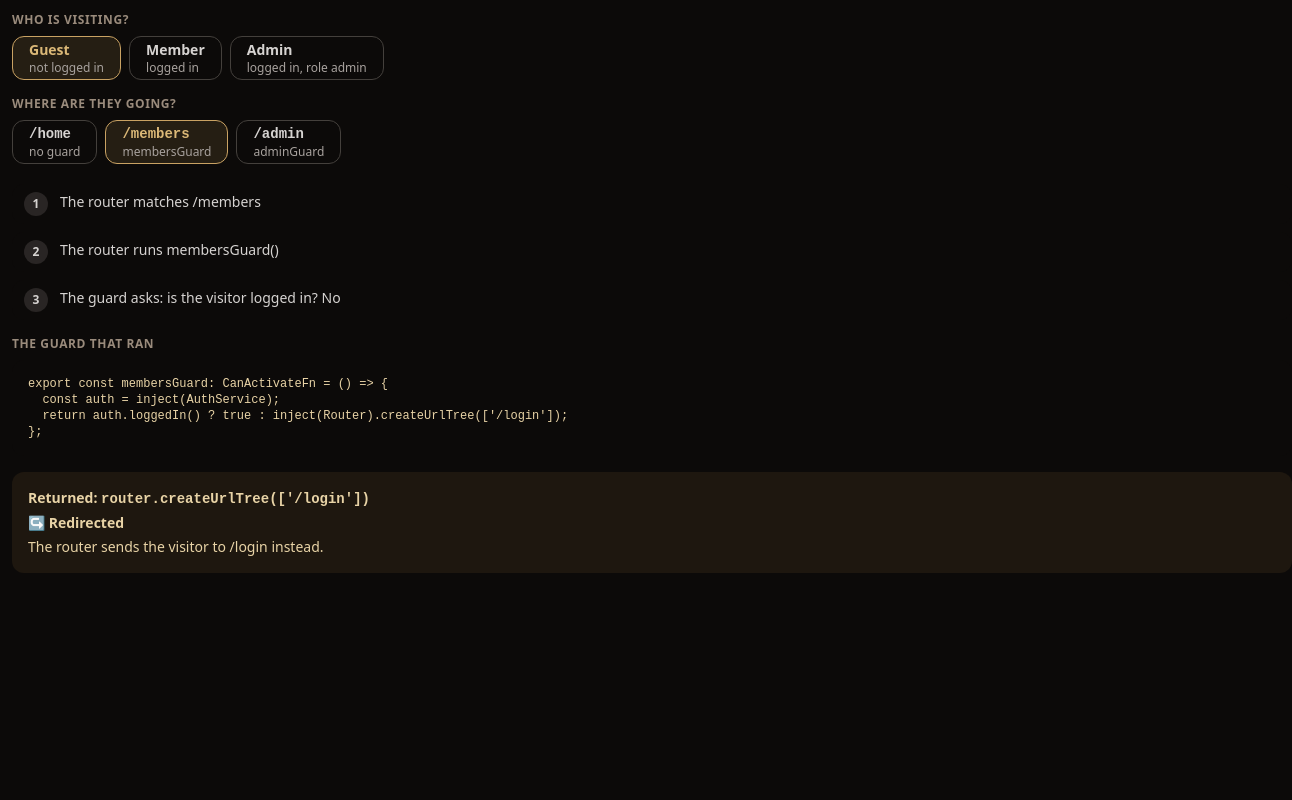
Scenario: GuardGateDemoComponent › shows a member being cancelled on the admin page
Click the button "Member logged in": [175, 58] box [129,36,222,80]
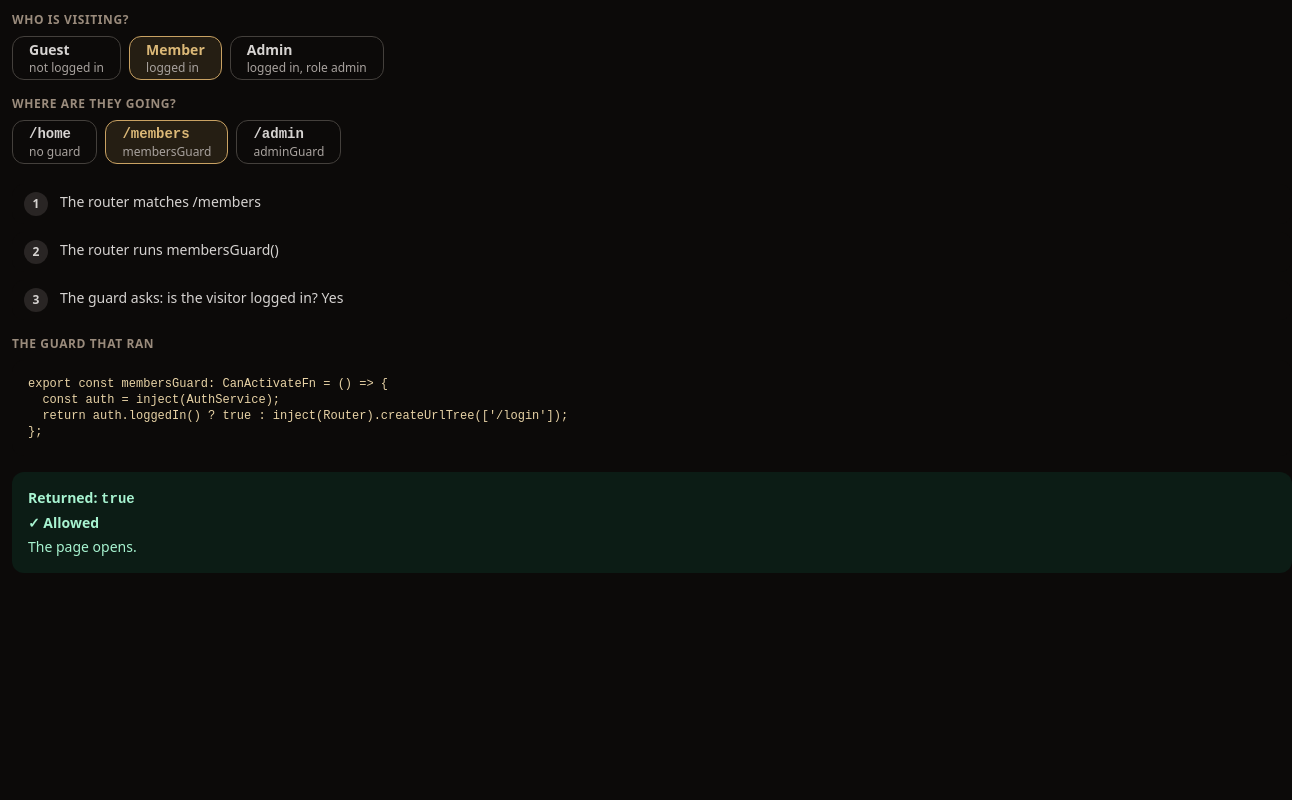
Click the button "/admin adminGuard": [289, 142] box [236,120,341,164]
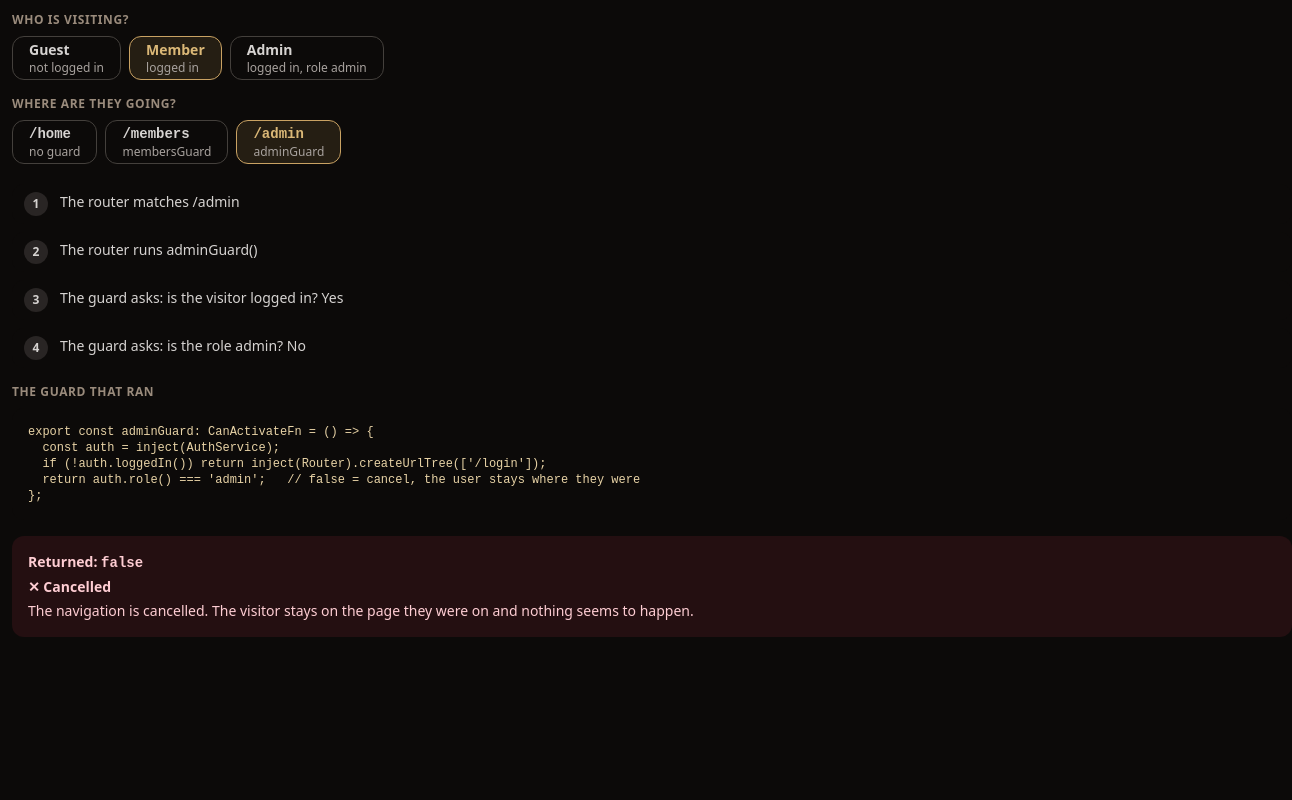
Check: the text "✕ Cancelled" is shown, box [28,577,111,596]
Check: the text "false" is shown, box [101,555,143,571]
